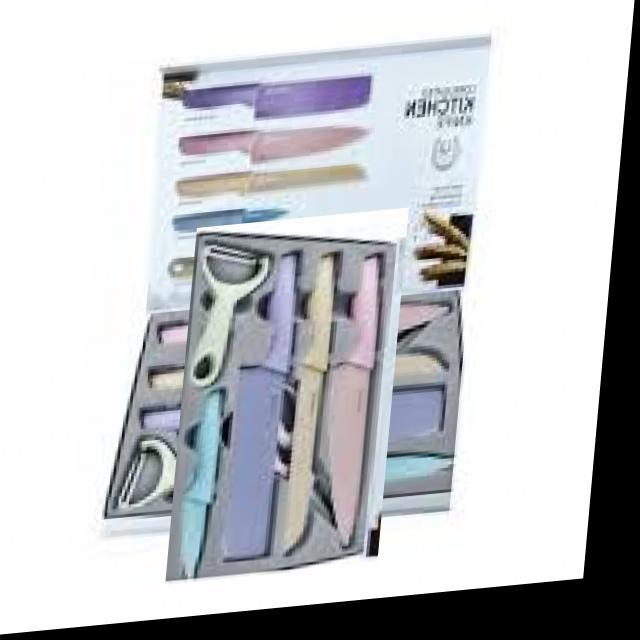knife: (218, 249, 301, 564), (280, 253, 336, 555), (327, 252, 383, 546), (182, 72, 372, 121), (177, 392, 225, 580), (177, 127, 372, 165), (175, 164, 372, 198)
